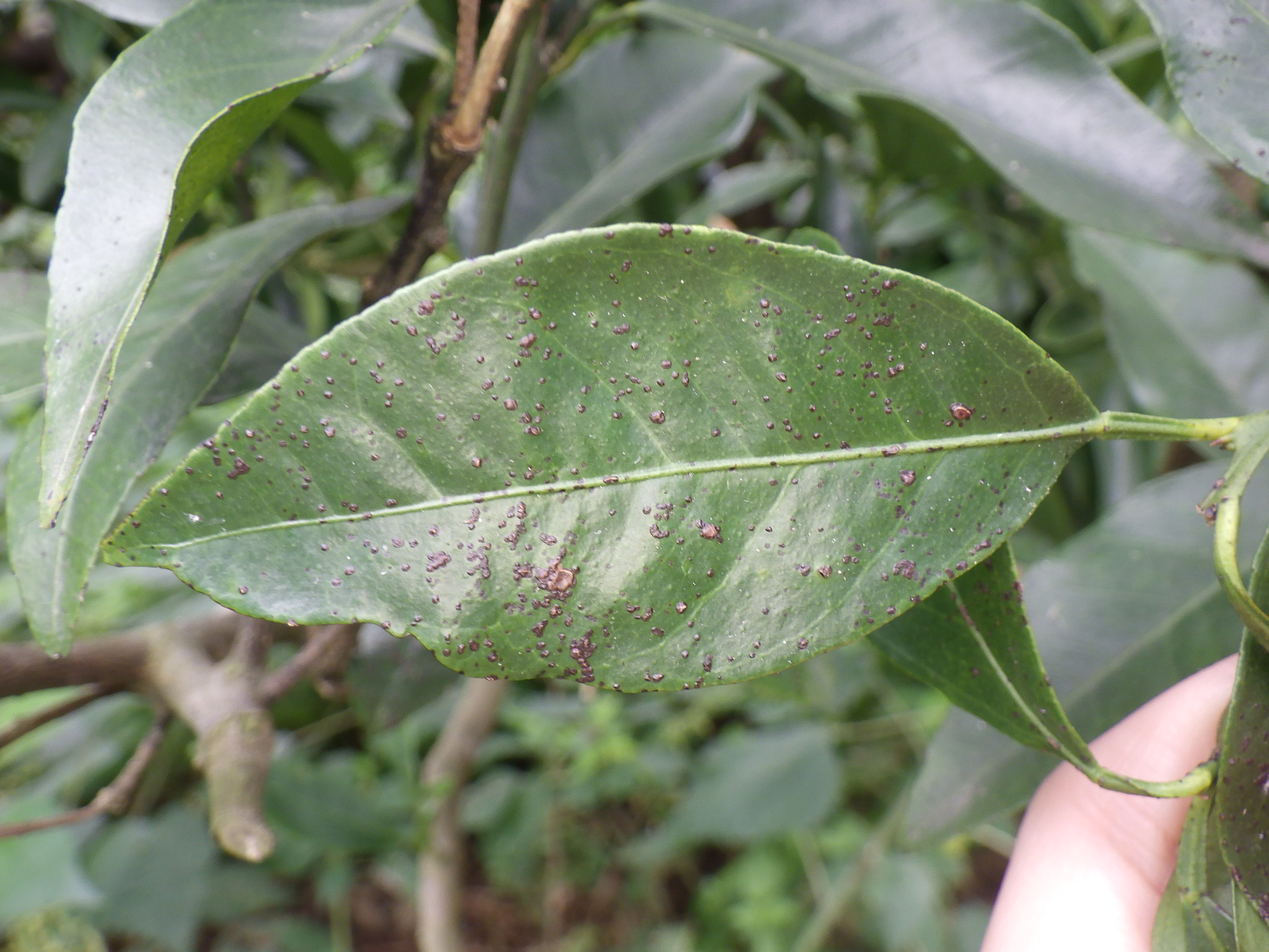Black_Spot: (103, 223, 1236, 690)
